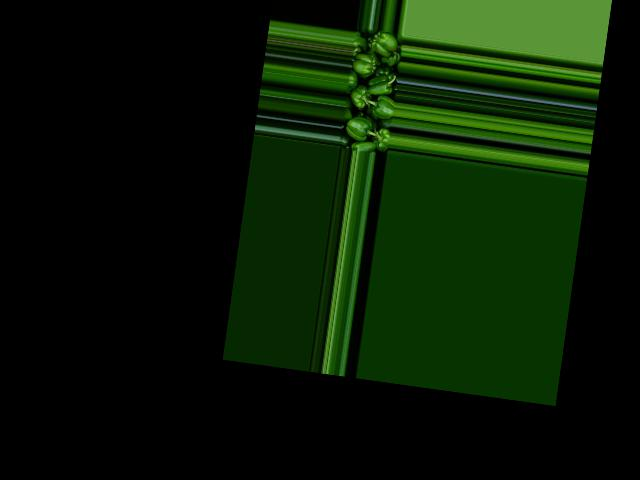bell_pepper: (339, 27, 402, 153)
